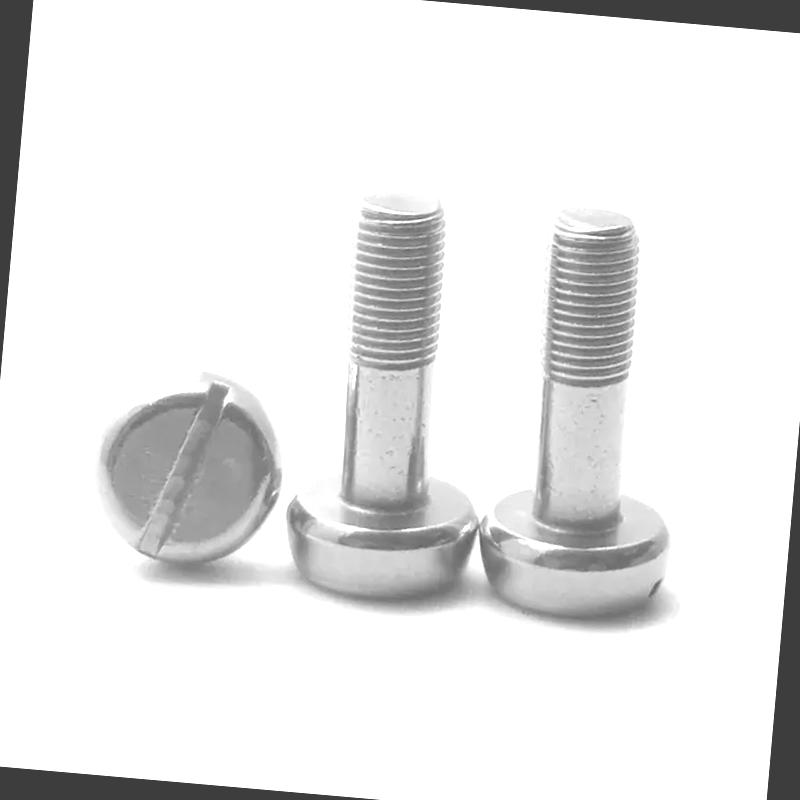slotted: (83, 360, 292, 580)
